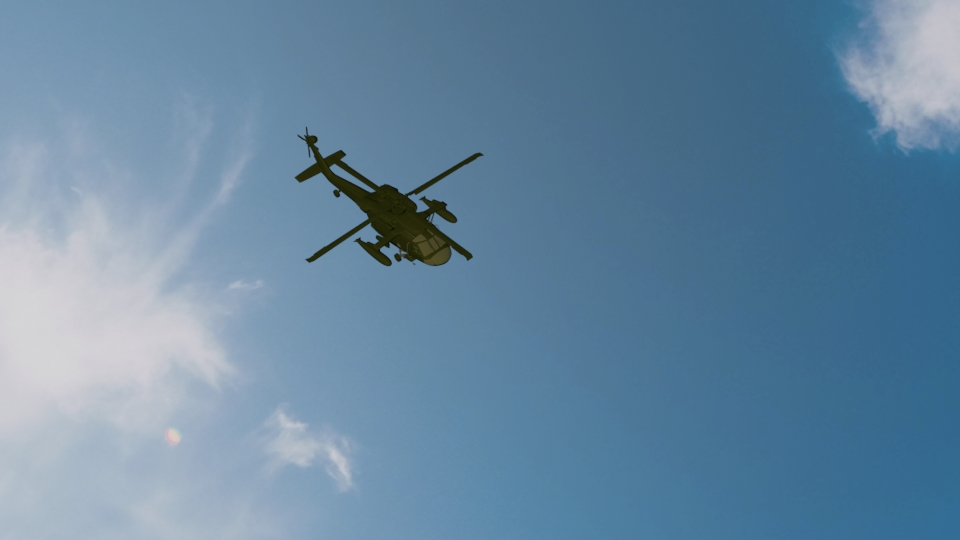heli: (287, 122, 488, 268)
